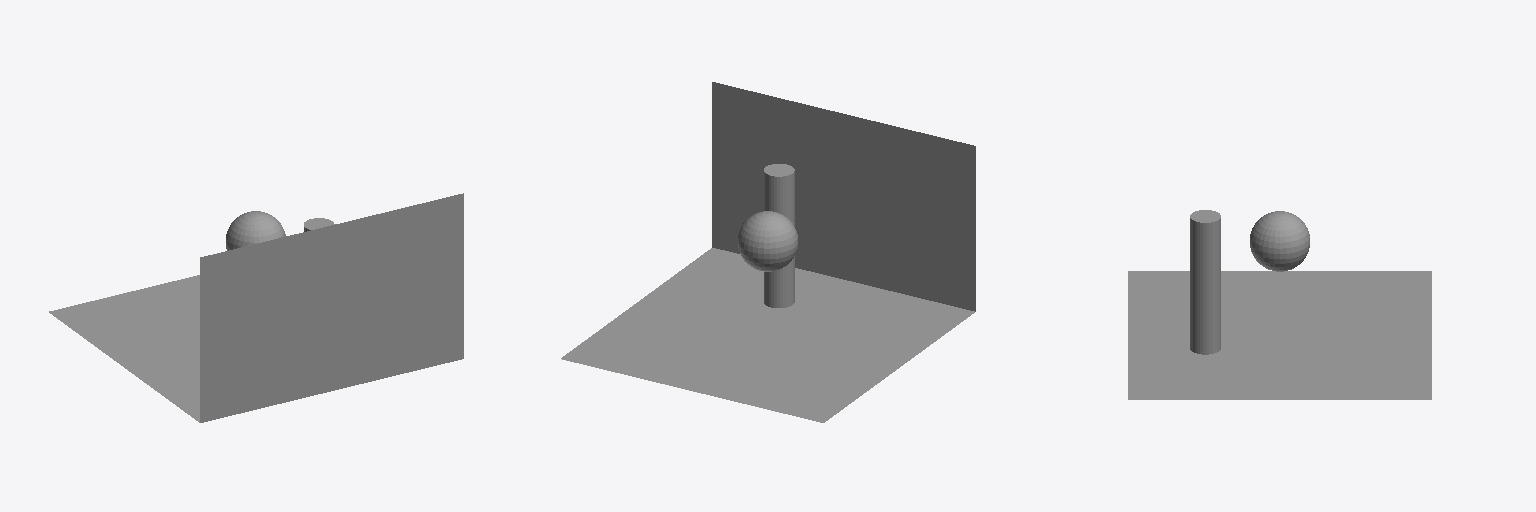
Rendered from room.obj.
3 views of the same model, side by side, from view 1: azimuth 30°, elevation 25°; view 2: azimuth 150°, elevation 25°; view 3: azimuth 270°, elevation 25° (orthographic).
Visible parts, largest first — view 1: Sphere; view 2: Sphere; view 3: Sphere.
Part boxes in pixels (x1,y1,x2,y2): Sphere: (49,193,463,422); Sphere: (561,82,975,422); Sphere: (1128,210,1431,399).
Size of the model in its own units: 10 by 6.26 by 10.